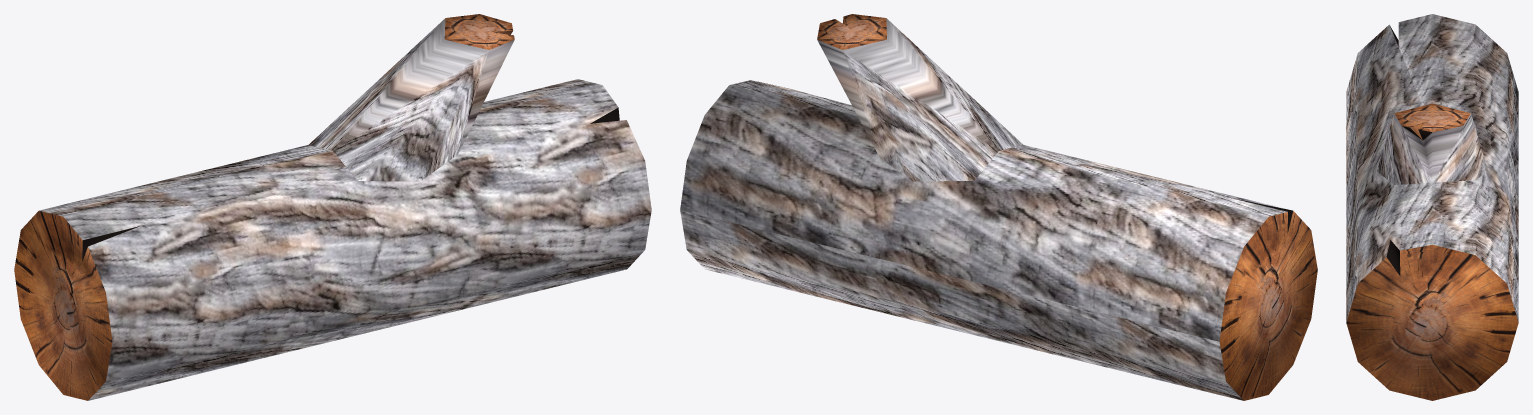
The model's file is AcaciaLog.glb.
3 views of the same model, side by side, from view 1: azimuth 30°, elevation 25°; view 2: azimuth 150°, elevation 25°; view 3: azimuth 270°, elevation 25° (orthographic). The views are drawn at different scales.
Parts seen in each view (by area): view 1: Cylinder.001, Cylinder; view 2: Cylinder.001, Cylinder; view 3: Cylinder.001, Cylinder.
Boxes of the visible parts, bbox=[...] form: Cylinder.001: bbox=[39, 18, 651, 400]; Cylinder: bbox=[14, 14, 619, 400]; Cylinder.001: bbox=[680, 18, 1289, 400]; Cylinder: bbox=[758, 14, 1317, 400]; Cylinder.001: bbox=[1346, 14, 1518, 321]; Cylinder: bbox=[1346, 26, 1518, 400].
Bounding box in the file's own units: 3.38 × 1.57 × 1.07.
2 materials, 2 textured.
